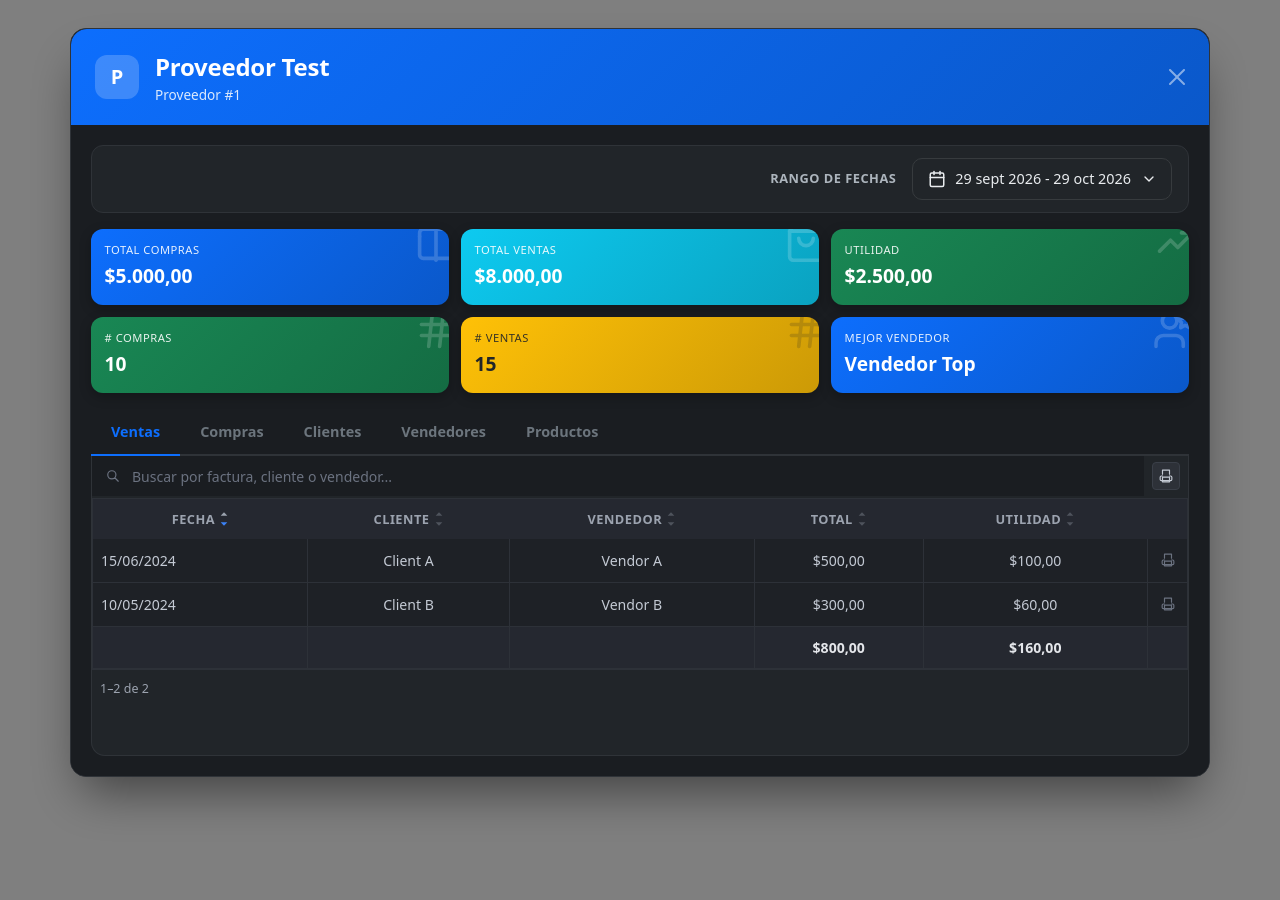
Test: ProviderDashboardModal › renders clients table with client name and # ventas
This screenshot has width=1280, height=900.
expect the button "Ventas" is shown: met, box [91, 408, 180, 456]
Click the button "Clientes". click: (332,432)
box: [284, 408, 381, 456]
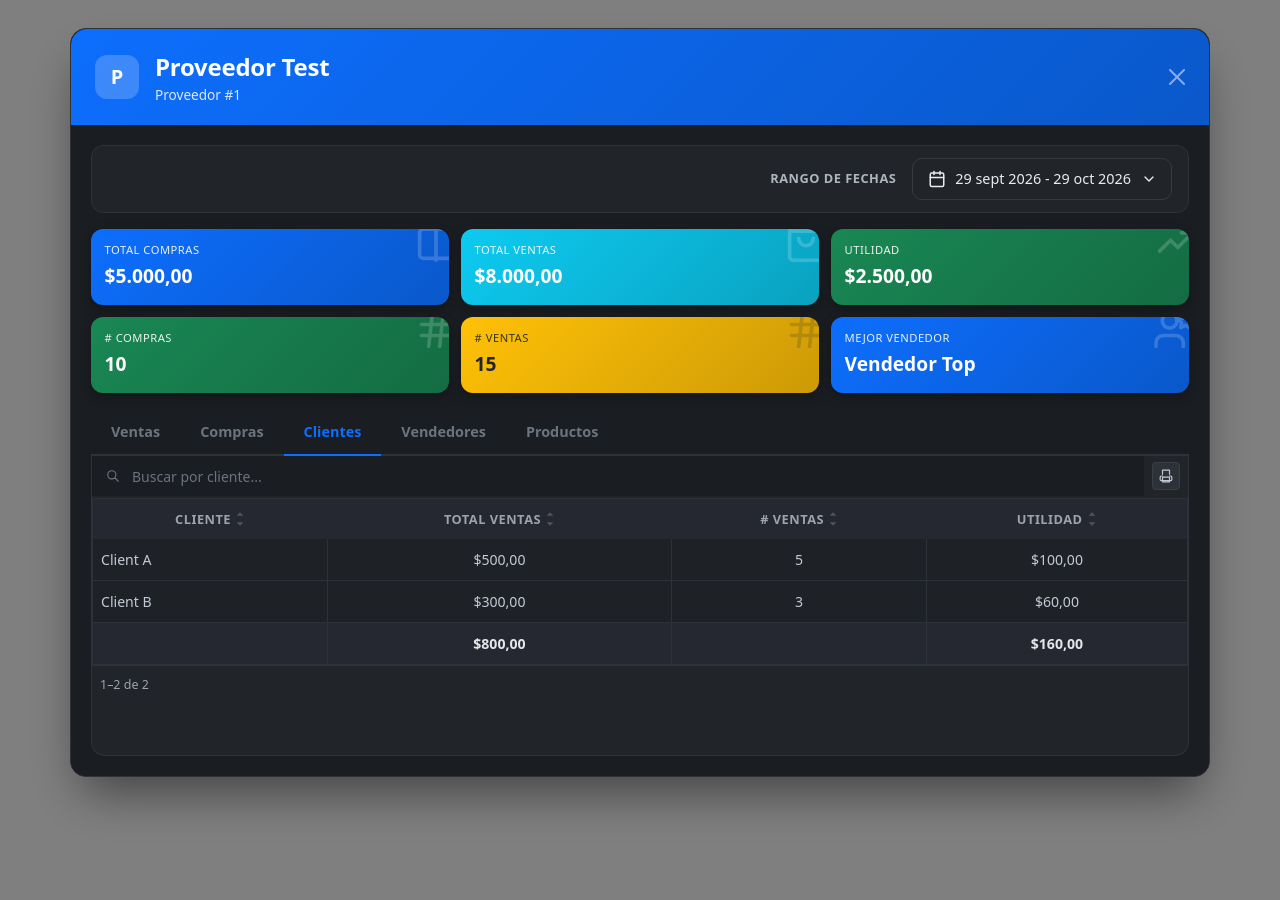
expect the text "Client A" is shown: met, box [92, 539, 327, 581]
expect the text "3" is shown: met, box [672, 581, 926, 623]
